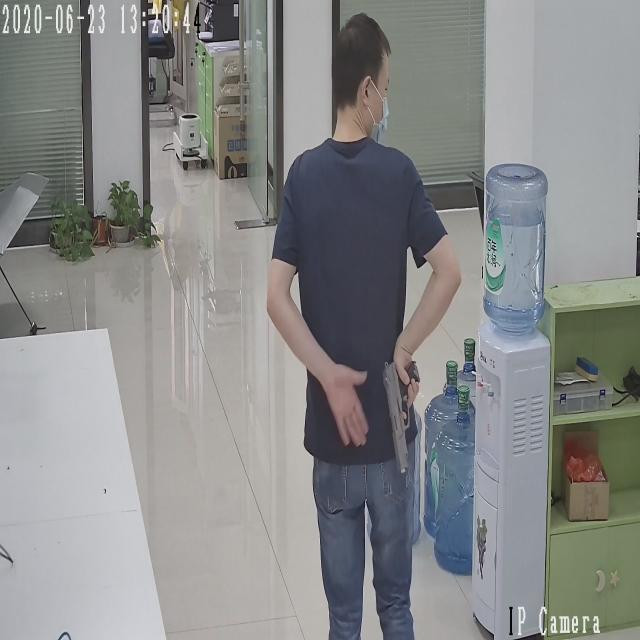gun-knife-thesis - v11 Yolov5 augmented: (381, 351, 424, 477)
